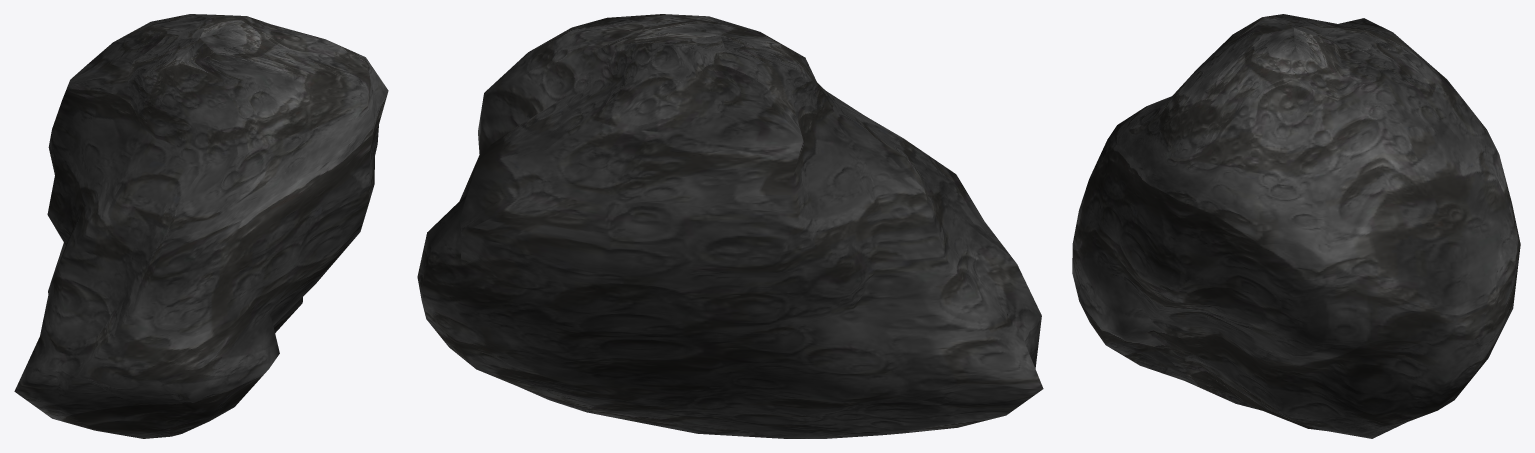
File: Asteroid1b.FBX
3 renders of one model, left to right at view 1: azimuth 30°, elevation 25°; view 2: azimuth 150°, elevation 25°; view 3: azimuth 270°, elevation 25°, orthographic. The views are drawn at different scales.
Parts seen in each view (by area): view 1: GeoSphere01; view 2: GeoSphere01; view 3: GeoSphere01.
Part boxes in pixels (<box>): GeoSphere01: <box>14,14,388,438</box>; GeoSphere01: <box>417,14,1043,438</box>; GeoSphere01: <box>1072,14,1520,438</box>.
Size of the model in its own units: 130 by 101 by 105.
1 material, 1 textured.
